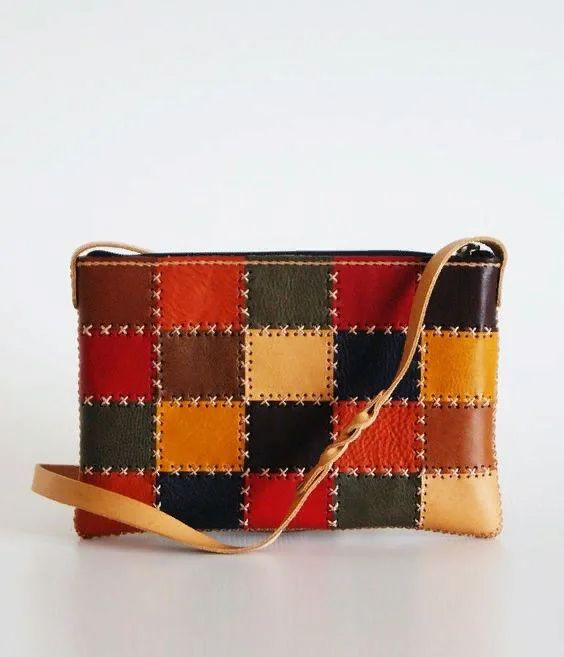cuero: (27, 237, 510, 551)
